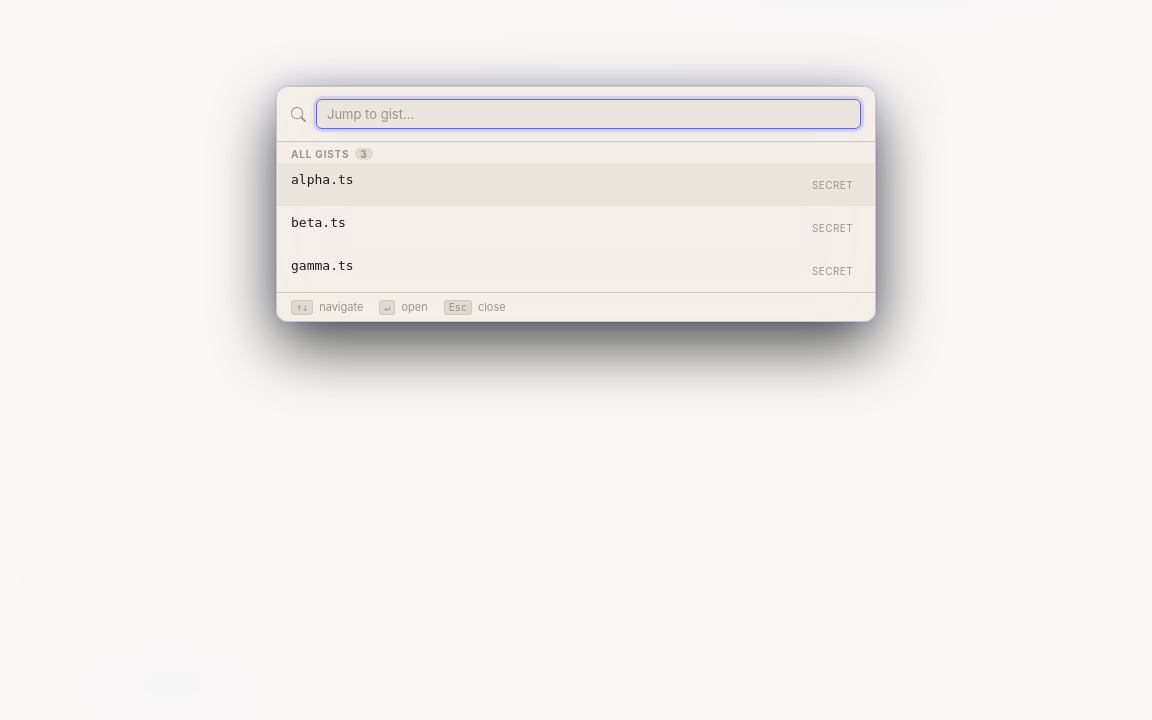
Scenario: CommandPalette › shows no-match message when query has no results
Type "zzz_nomatch_zzz" into the field with placeholder "Jump to gist…" at (588,114), box [316, 99, 861, 129]
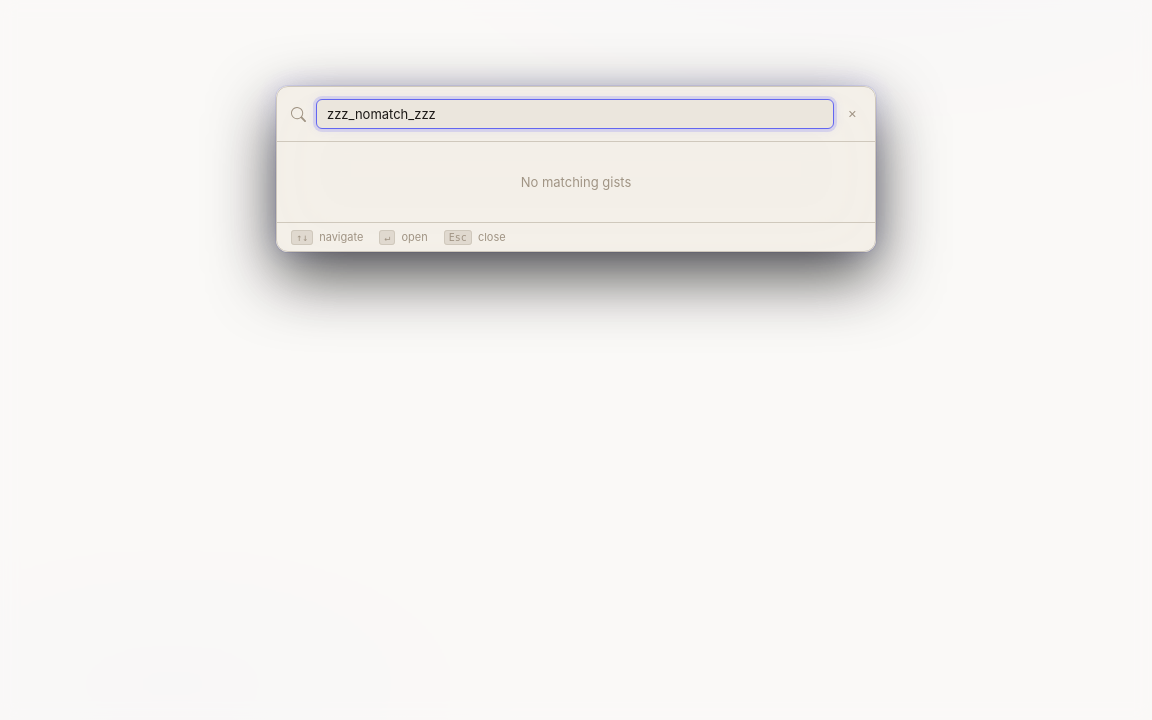
Expected: the text "No matching gists" is shown, [521, 174, 631, 190]
